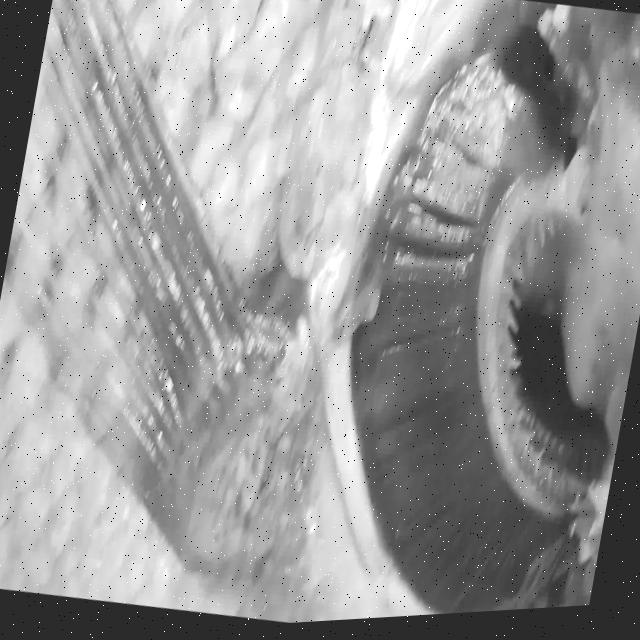Non-Fresh: (296, 25, 640, 626)
